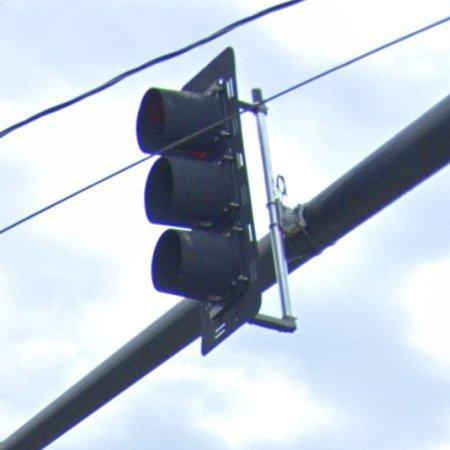traffic lights: (135, 46, 262, 356)
